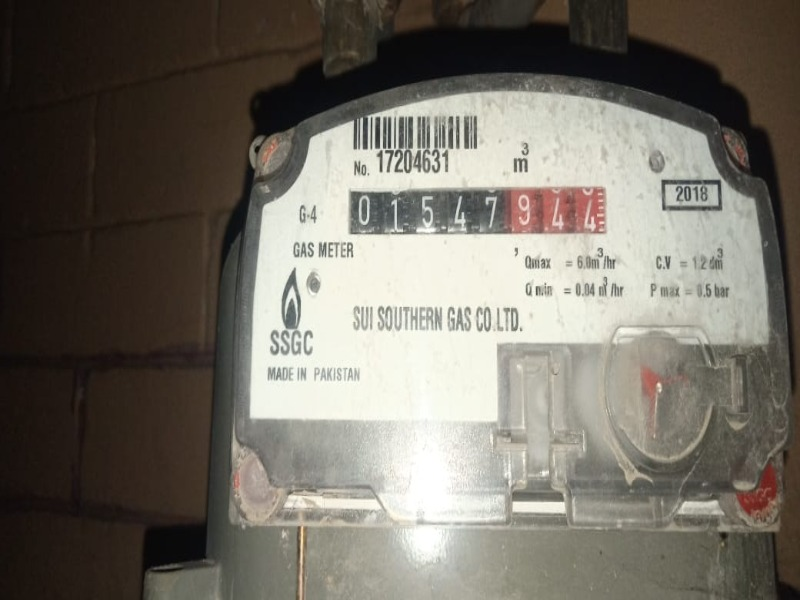ssgc: (346, 186, 609, 241)
